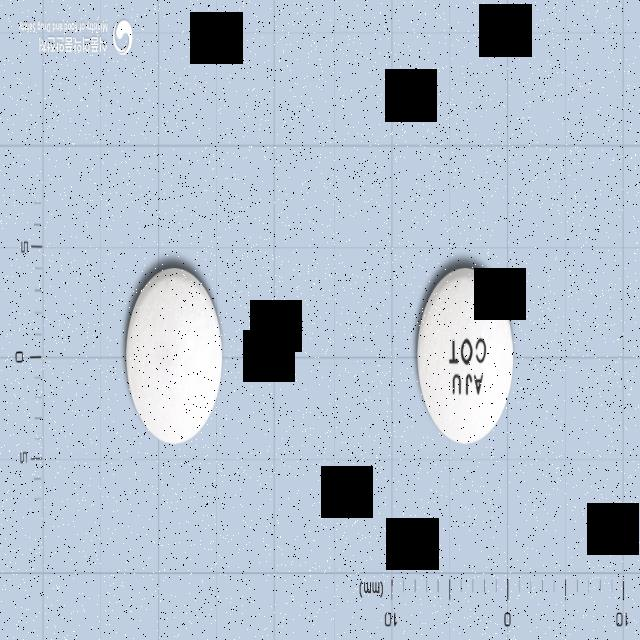Croxacin: (124, 266, 224, 447), (416, 268, 514, 446)
